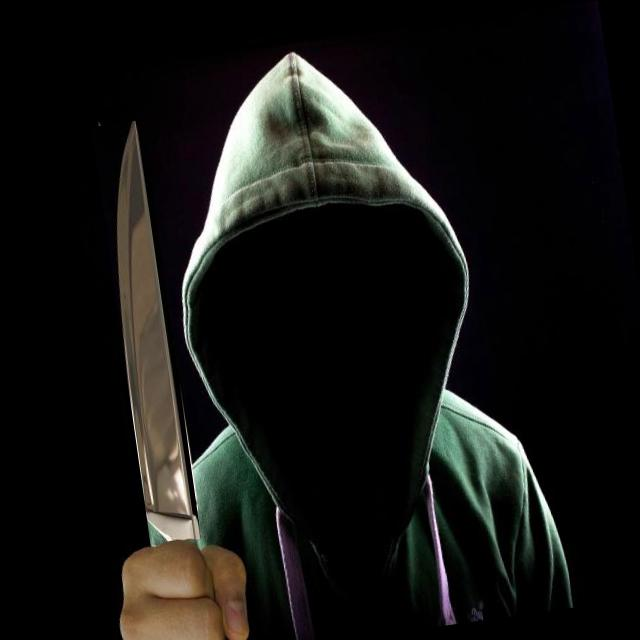Knife: (118, 121, 201, 541)
